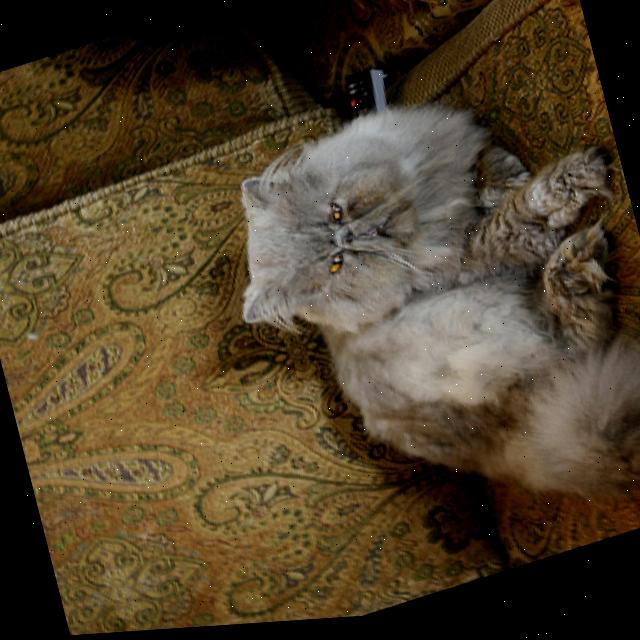Persian: (201, 46, 640, 605)
